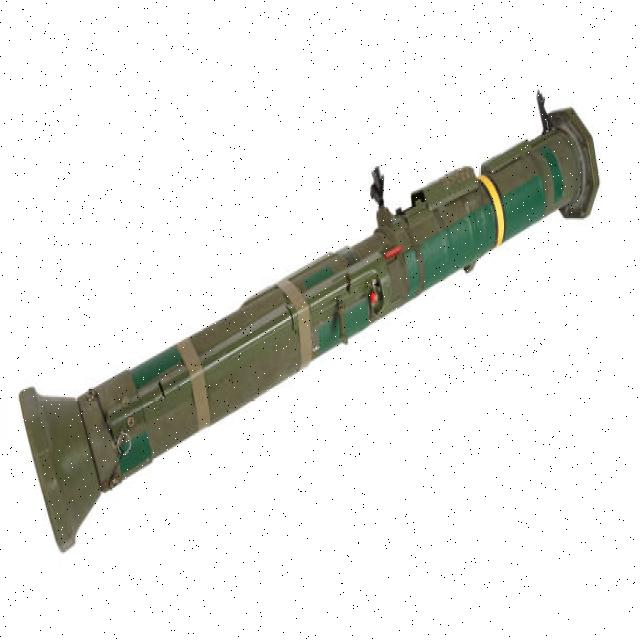bazooka: (10, 76, 606, 559)
